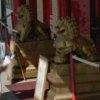Statue: (44, 8, 99, 68)
